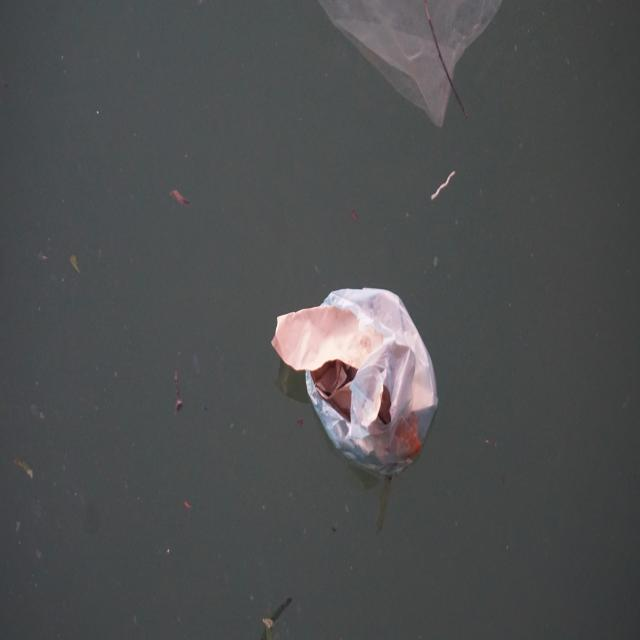Kantong Plastik: (300, 285, 442, 481), (317, 1, 506, 126)
